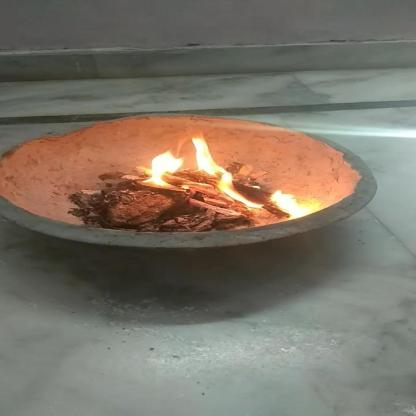fire: (140, 133, 264, 211), (262, 189, 316, 217)
